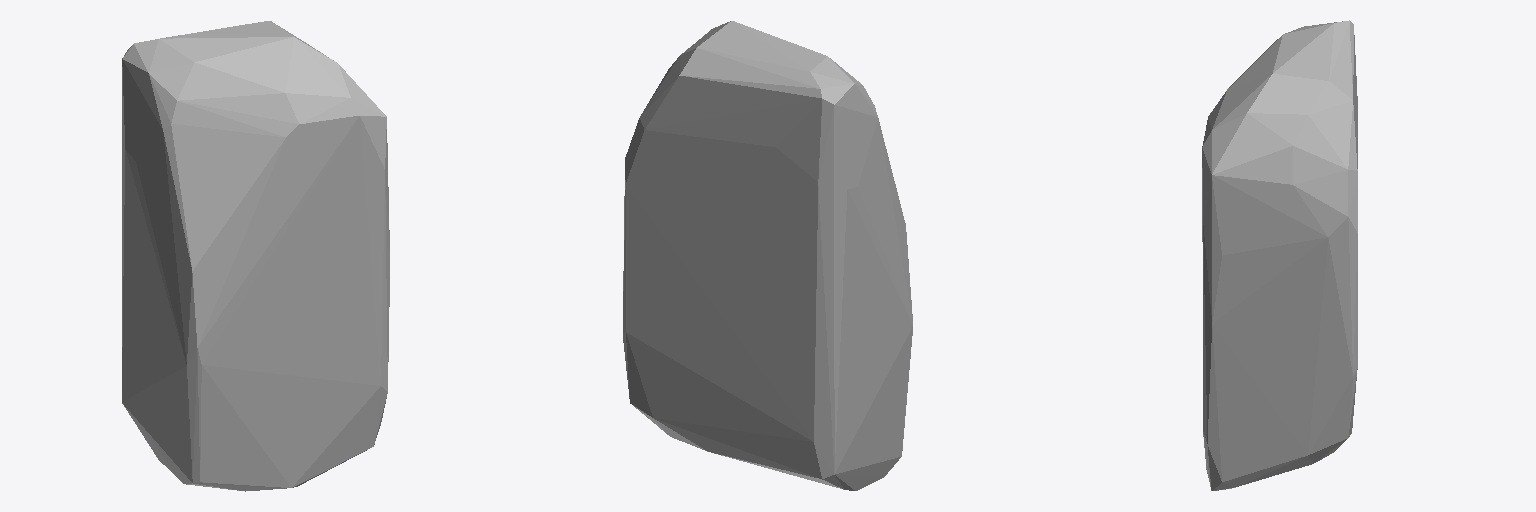
robot.urdf — root:
<robot name="root">
  <link name="link_rock22_convex_piece_0">
    <inertial>
      <origin rpy="0 0 0" xyz="0 0 0"/>
      <mass value="1.05E+06"/>
      <inertia ixx="2.41E+09" ixy="1.85E+08" ixz="-5.31E+08" iyy="2.28E+09" iyz="3.74E+08" izz="5.78E+08"/>
    </inertial>
    <visual>
      <origin rpy="0 0 0" xyz="0 0 0"/>
      <geometry>
        <mesh filename="rock22_convex_piece_0.obj" scale="1.0000E+00 1.0000E+00 1.0000E+00"/>
      </geometry>
      <material name="">
        <color rgba="7.50E-01 7.50E-01 7.50E-01 1"/>
      </material>
    </visual>
    <collision>
      <origin rpy="0 0 0" xyz="0 0 0"/>
      <geometry>
        <mesh filename="rock22_convex_piece_0.obj" scale="1.0000E+00 1.0000E+00 1.0000E+00"/>
      </geometry>
    </collision>
  </link>
</robot>

--- What the picture shows (computed from the rendered views, not written in the file) ---
3 views of the same robot in one strip: view 1: azimuth 30°, elevation 25°; view 2: azimuth 150°, elevation 25°; view 3: azimuth 270°, elevation 25° (orthographic).
Robot: root — 1 links, 0 joints (none); root link link_rock22_convex_piece_0; default pose: every joint at zero.
Visible links, largest first — view 1: link_rock22_convex_piece_0; view 2: link_rock22_convex_piece_0; view 3: link_rock22_convex_piece_0.
Boxes of the visible links, x1,y1,x2,y2 form: link_rock22_convex_piece_0: [122, 21, 389, 491]; link_rock22_convex_piece_0: [623, 21, 912, 490]; link_rock22_convex_piece_0: [1202, 20, 1357, 490].
Bounding box of the posed robot: 99.87 × 66.71 × 197 m (x, y, z).
Meshes: 1 distinct files referenced, 1 mesh visuals loaded (1 OBJ).